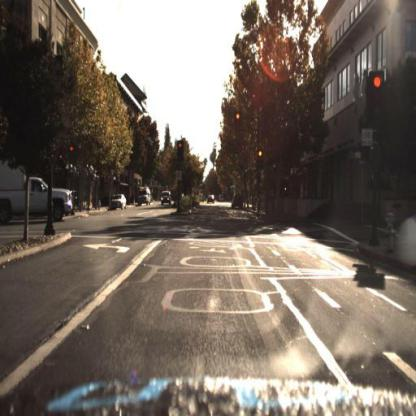car: (1, 161, 76, 226), (232, 193, 250, 211), (138, 186, 152, 207), (111, 194, 130, 209), (111, 194, 128, 208), (232, 194, 244, 211), (160, 192, 172, 206)
trafficLight: (257, 147, 265, 165), (235, 112, 243, 128)
trafficLight-RedLeft: (178, 142, 185, 157)
